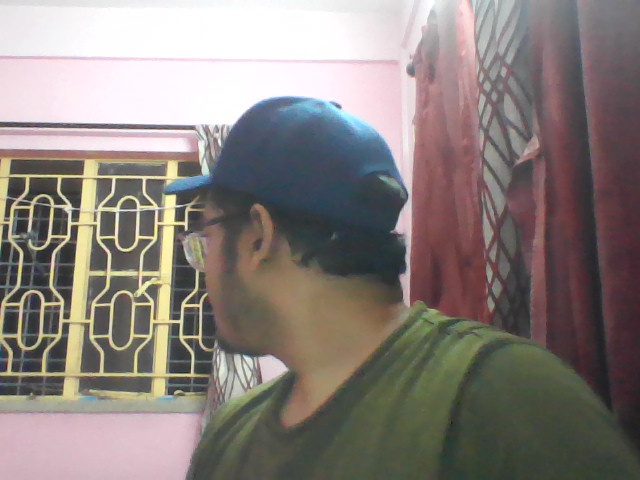Helmet: (134, 64, 415, 236)
